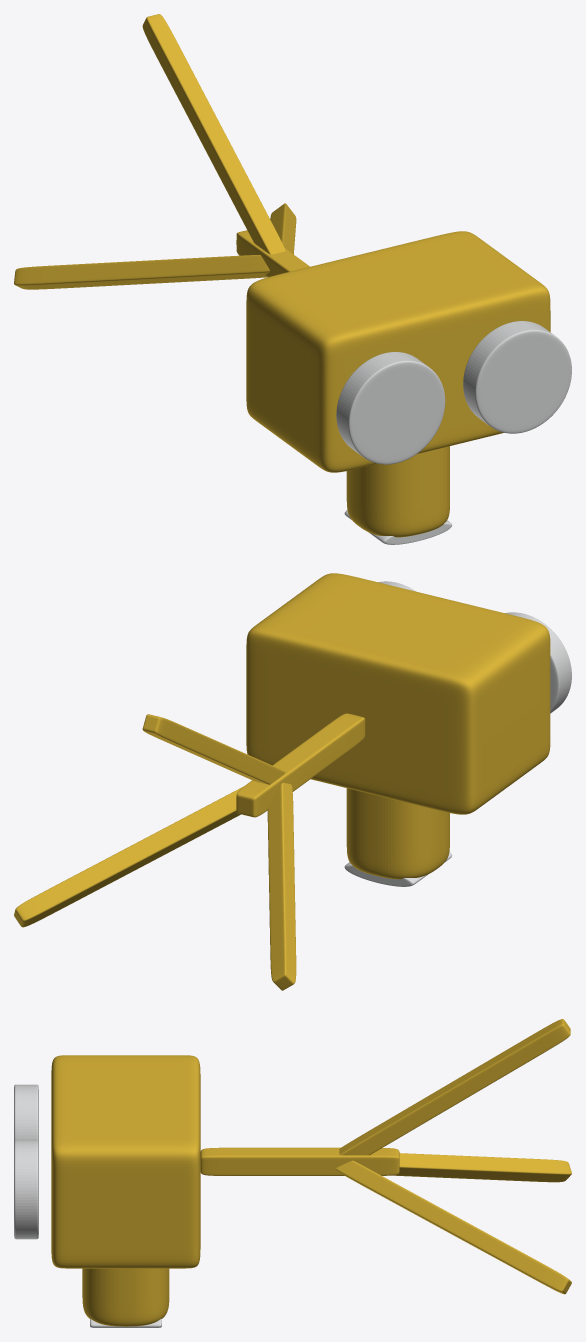
Rendered from film_camera_tripod_sq.glb.
3 views of the same model, one above another, from view 1: azimuth 30°, elevation 25°; view 2: azimuth 150°, elevation 25°; view 3: azimuth 270°, elevation 25° (orthographic). The views are drawn at different scales.
Parts seen in each view (by area): view 1: superquadric_0, superquadric_4, superquadric_3, superquadric_1, superquadric_8, superquadric_6, superquadric_5, superquadric_7; view 2: superquadric_0, superquadric_1, superquadric_7, superquadric_6, superquadric_5, superquadric_8, superquadric_3, superquadric_2; view 3: superquadric_0, superquadric_8, superquadric_5, superquadric_1, superquadric_7, superquadric_6, superquadric_4, superquadric_3.
Boxes of the visible parts, x1,y1,x2,y2 form: superquadric_0: (246, 231, 550, 472); superquadric_4: (463, 321, 571, 433); superquadric_3: (336, 352, 445, 464); superquadric_1: (346, 446, 449, 537); superquadric_8: (142, 14, 285, 254); superquadric_6: (14, 254, 269, 289); superquadric_5: (236, 230, 309, 277); superquadric_7: (270, 203, 296, 254); superquadric_0: (246, 573, 550, 814); superquadric_1: (346, 788, 449, 879); superquadric_7: (14, 786, 243, 927); superquadric_6: (267, 782, 296, 990); superquadric_5: (236, 713, 365, 817); superquadric_8: (142, 714, 285, 784); superquadric_3: (505, 612, 571, 713); superquadric_2: (344, 852, 452, 886); superquadric_0: (51, 1055, 200, 1268); superquadric_8: (339, 1019, 570, 1155); superquadric_5: (200, 1147, 399, 1175); superquadric_1: (82, 1268, 169, 1326); superquadric_7: (335, 1160, 571, 1294); superquadric_6: (392, 1153, 571, 1182); superquadric_4: (14, 1139, 38, 1239); superquadric_3: (14, 1084, 38, 1143).
Size of the model in its own units: 0.5174 by 0.586 by 1.
